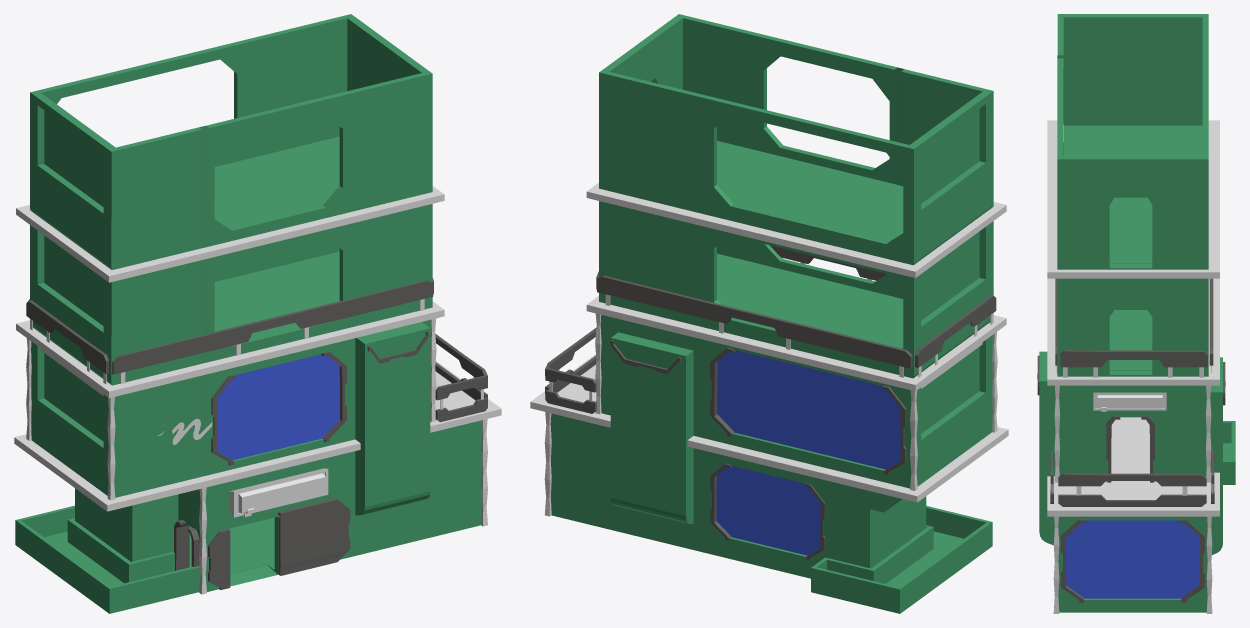
Rendered from 3pisos2.glb.
The picture shows the model from 3 angles, left to right: view 1: azimuth 30°, elevation 25°; view 2: azimuth 150°, elevation 25°; view 3: azimuth 270°, elevation 25°; orthographic projection. The views are drawn at different scales.
Parts seen in each view (by area): view 1: Piso 2.002, Piso 2.001, Piso1, Piso 2, Panel1, Cube.079, Pasillo, Cube.007, Cube.014, Techo 2.001, Techo 2, Cube.105 (+7 smaller); view 2: Piso 2.002, Piso 2.001, Piso1, Piso 2, Cube.080, Panel 2, Pasillo, Cube.084, Cube.007, Techo 2.001, Techo 2, Cube.058 (+5 smaller); view 3: Piso 2.002, Piso 2.001, Cube.081, Piso 2, Cube.007, Techo 2.001, Piso1, Techo 2, Panel1, Cube.063, Cube.039, Panel 2 (+12 smaller).
Boxes of the visible parts, x1,y1,x2,y2 form: Piso 2.002: [30, 14, 432, 269]; Piso 2.001: [30, 204, 432, 385]; Piso1: [75, 420, 481, 591]; Piso 2: [31, 320, 430, 497]; Panel1: [355, 322, 430, 515]; Cube.079: [217, 354, 339, 460]; Pasillo: [15, 505, 200, 613]; Cube.007: [14, 361, 501, 511]; Cube.014: [112, 280, 433, 374]; Techo 2.001: [16, 186, 444, 282]; Techo 2: [16, 301, 444, 397]; Cube.105: [278, 498, 350, 575]; Piso 2.002: [599, 14, 993, 265]; Piso 2.001: [599, 201, 993, 378]; Piso1: [550, 413, 926, 578]; Piso 2: [600, 315, 992, 488]; Cube.080: [717, 350, 900, 469]; Panel 2: [610, 332, 693, 523]; Pasillo: [811, 506, 992, 613]; Cube.084: [716, 466, 820, 555]; Cube.007: [530, 354, 1008, 502]; Techo 2.001: [586, 182, 1006, 277]; Techo 2: [586, 296, 1006, 391]; Cube.058: [597, 275, 912, 368]; Piso 2.002: [1057, 14, 1208, 269]; Piso 2.001: [1057, 278, 1208, 376]; Cube.081: [1066, 520, 1199, 598]; Piso 2: [1059, 385, 1206, 481]; Cube.007: [1047, 417, 1219, 516]; Techo 2.001: [1047, 120, 1219, 278]; Piso1: [1058, 516, 1207, 612]; Techo 2: [1047, 278, 1219, 385]; Panel1: [1039, 351, 1055, 545]; Cube.063: [1060, 350, 1207, 367]; Cube.039: [1058, 473, 1206, 486]; Panel 2: [1210, 357, 1222, 554].
Size of what is drawn, in the model's own units: 33.18 by 37.25 by 15.53.
